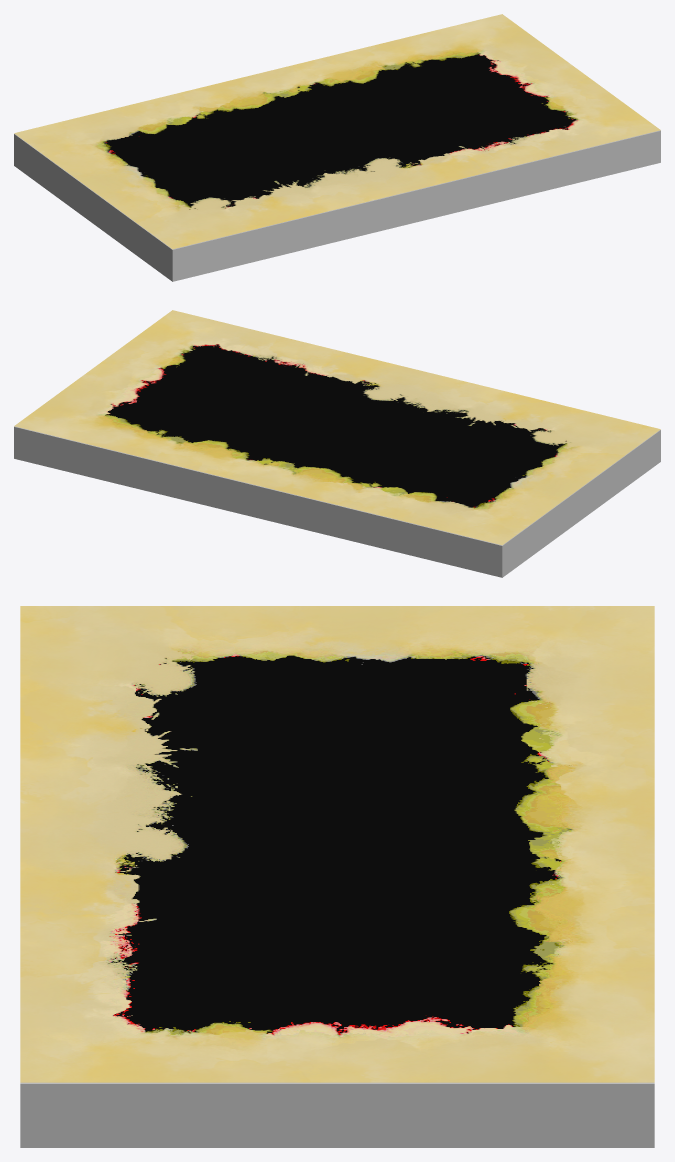
File: Canvas.fbx
3 views of the same model, one above another, from view 1: azimuth 30°, elevation 25°; view 2: azimuth 150°, elevation 25°; view 3: azimuth 270°, elevation 25° (orthographic). The views are drawn at different scales.
Parts seen in each view (by area): view 1: Plane.001, Cube, Plane; view 2: Plane.001, Cube, Plane; view 3: Plane.001, Cube, Plane.
Part boxes in pixels (x1,y1,x2,y2): Plane.001: [14, 14, 660, 249]; Cube: [14, 130, 660, 281]; Plane: [15, 130, 660, 249]; Plane.001: [14, 310, 660, 545]; Cube: [14, 426, 660, 577]; Plane: [14, 426, 659, 545]; Plane.001: [20, 606, 654, 1082]; Cube: [20, 1083, 654, 1147]; Plane: [20, 1082, 654, 1083].
Size of the model in its own units: 1600 by 102 by 900.
